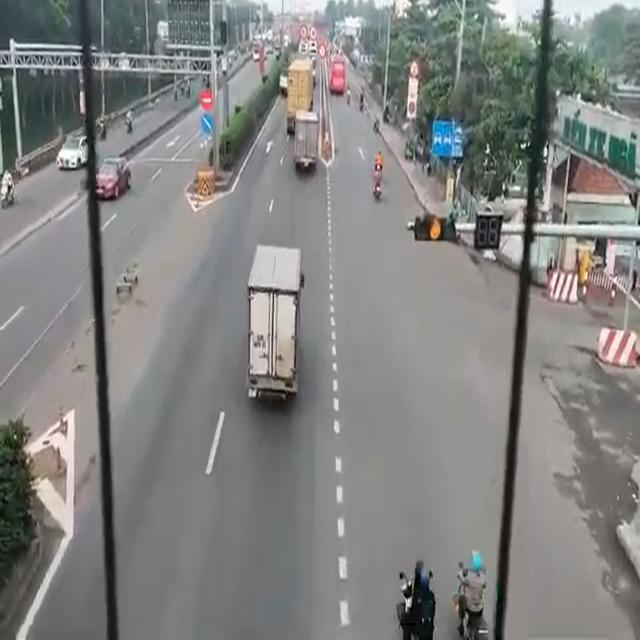car: (96, 157, 127, 203)
motor: (398, 575, 433, 640), (459, 575, 487, 640)
truck: (251, 232, 298, 419), (295, 113, 323, 177), (292, 56, 312, 120)
